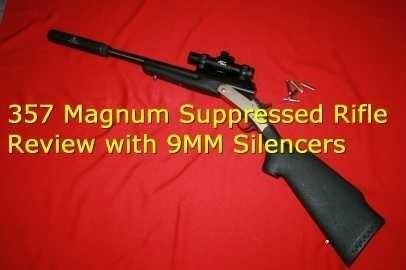heavyweapon: (45, 20, 395, 260)
